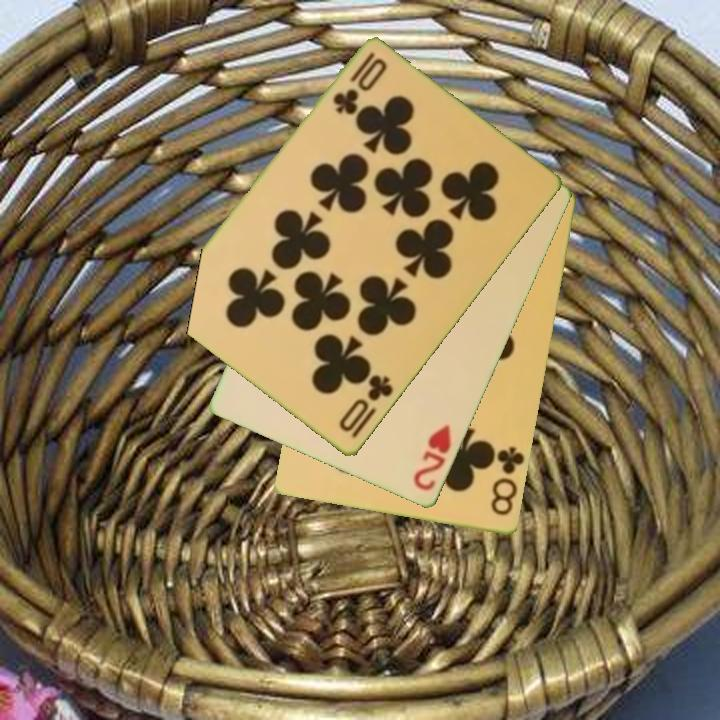10c: (335, 371, 396, 442), (329, 49, 390, 118)
2h: (410, 421, 455, 495)
8c: (488, 443, 527, 519)
